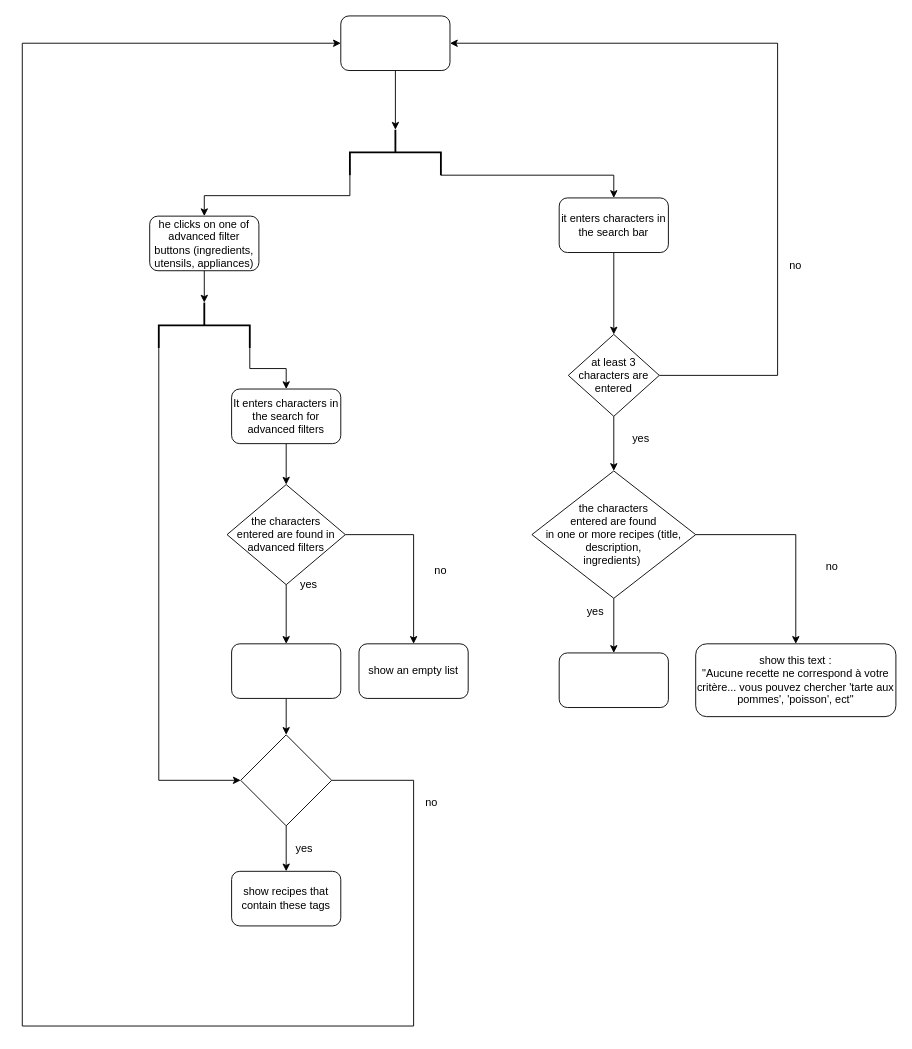
Image size: 912x1049. Some labels were removed from this diagram. Each missing label, with the centre of its shape:
"show recipes that contain these characters" belongs at [613,680].
"show words that contain these characters" belongs at [286,670].
"user makes an action" belongs at [395,43].
"users select a tag in the list" belongs at [286,780].
